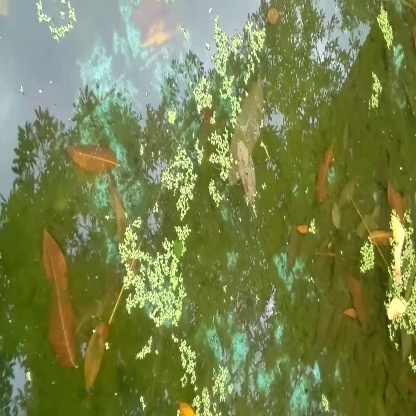leaf: (35, 224, 89, 372)
